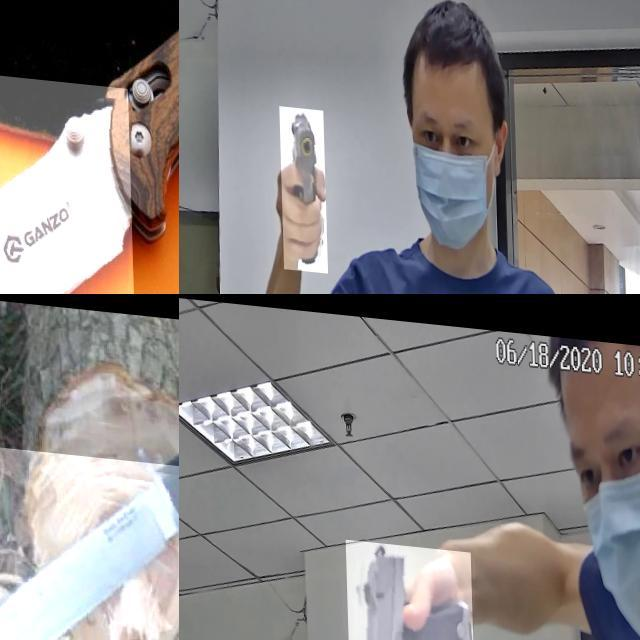-: (0, 57, 155, 294), (0, 435, 179, 640)
gun-knife-thesis - v11 Yolov5 augmented: (344, 533, 476, 640), (277, 100, 325, 266)
